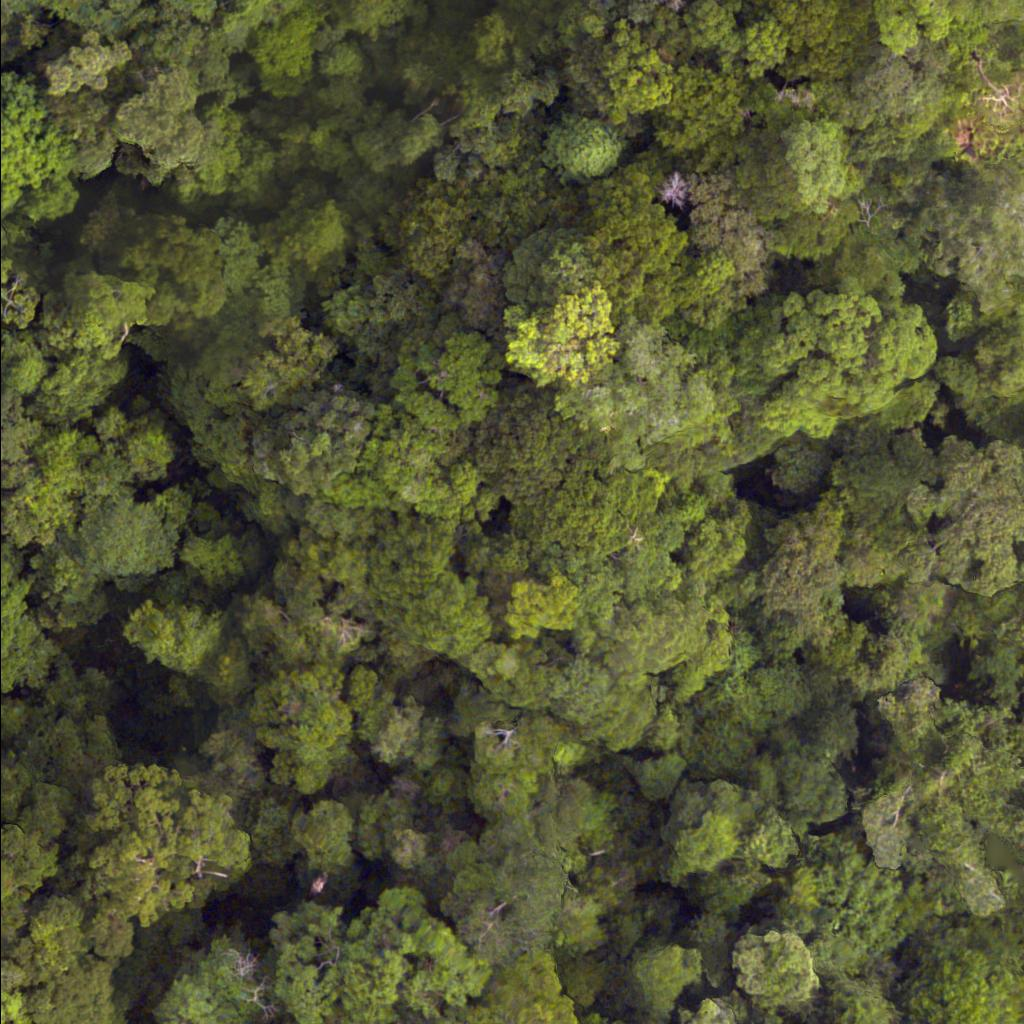crown: (254, 895, 479, 1023), (75, 766, 262, 916), (742, 302, 939, 443), (584, 340, 717, 469), (246, 382, 381, 498), (568, 15, 670, 123), (477, 950, 594, 1023), (43, 276, 149, 356), (550, 113, 634, 188)
